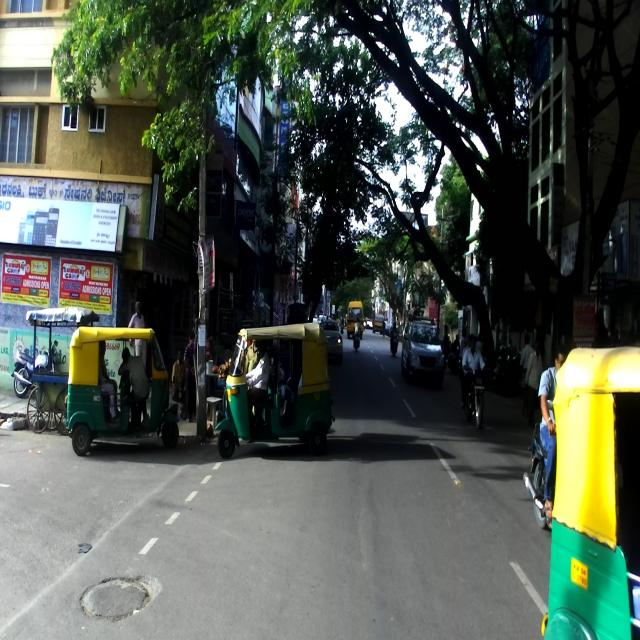autorickshaw: (540, 345, 640, 639), (213, 323, 335, 460), (64, 325, 180, 456)
motorcycle_bajaj: (522, 419, 553, 527)
